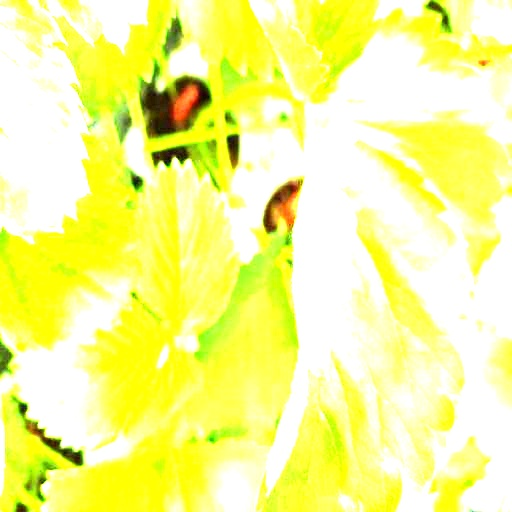Powdery Mildew Leaf: (254, 91, 475, 511)
